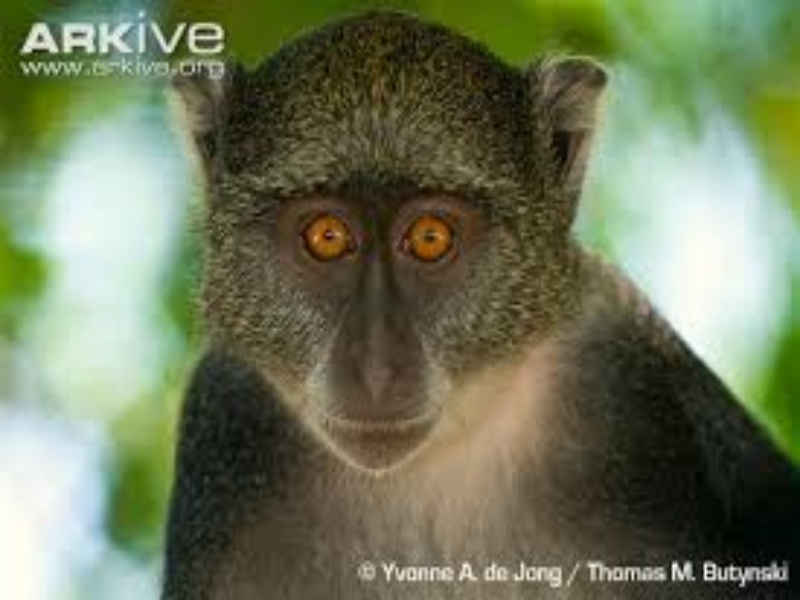monkey: (166, 40, 755, 561)
